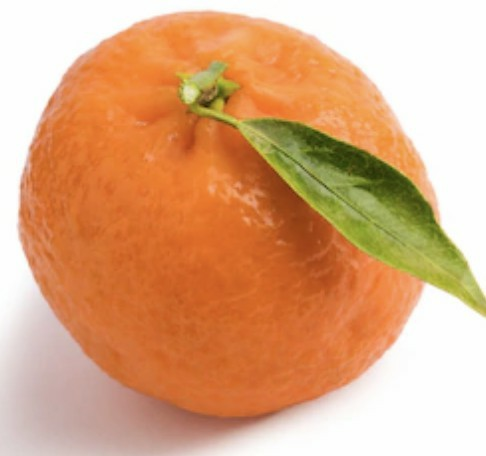fresh_orange: (15, 10, 436, 414)
